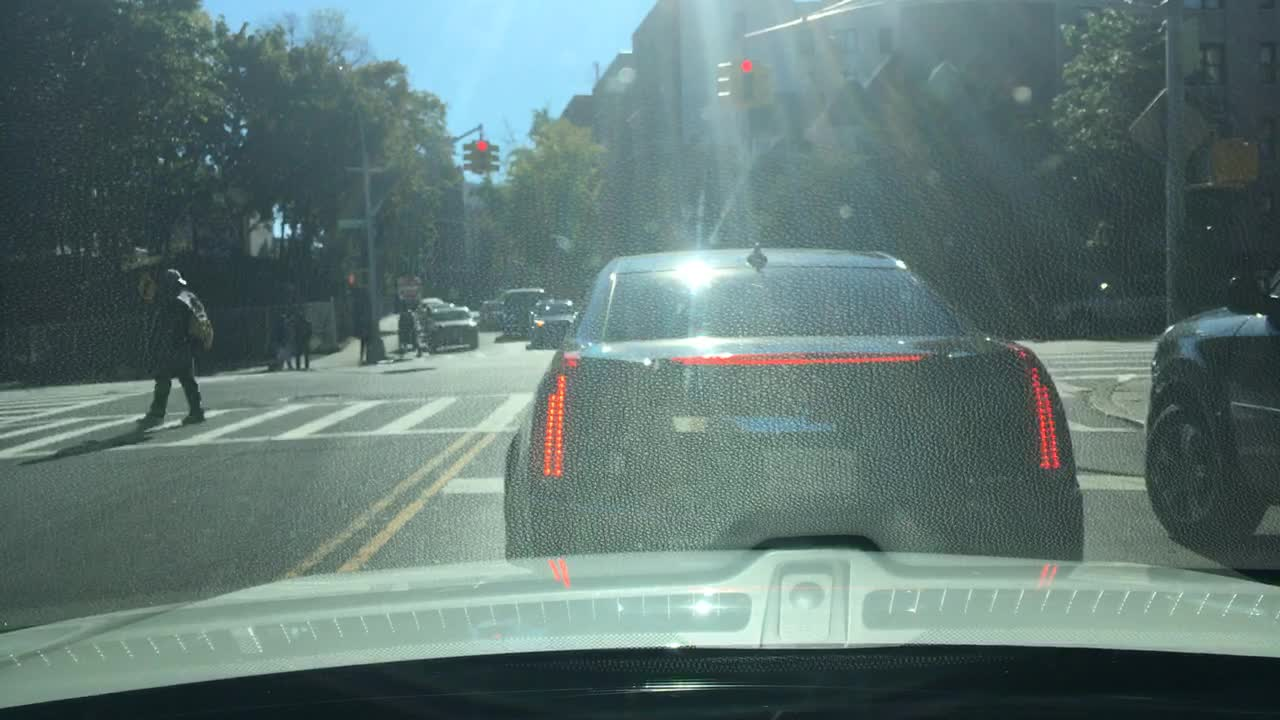car: (500, 245, 1085, 562), (1144, 264, 1278, 543), (1052, 272, 1166, 336), (526, 298, 577, 349), (423, 306, 478, 352), (497, 286, 544, 336), (475, 298, 504, 331), (425, 302, 453, 319), (425, 294, 441, 311)
person: (136, 269, 213, 432), (270, 305, 293, 369), (288, 308, 315, 361), (397, 303, 422, 358)
traffic light: (1204, 137, 1257, 184), (714, 58, 733, 104), (736, 60, 755, 105), (472, 140, 488, 176), (460, 141, 474, 173), (488, 148, 504, 176), (345, 270, 359, 287)
traffic sign: (1130, 88, 1209, 170), (397, 275, 422, 302), (138, 276, 153, 302), (337, 217, 369, 229)
